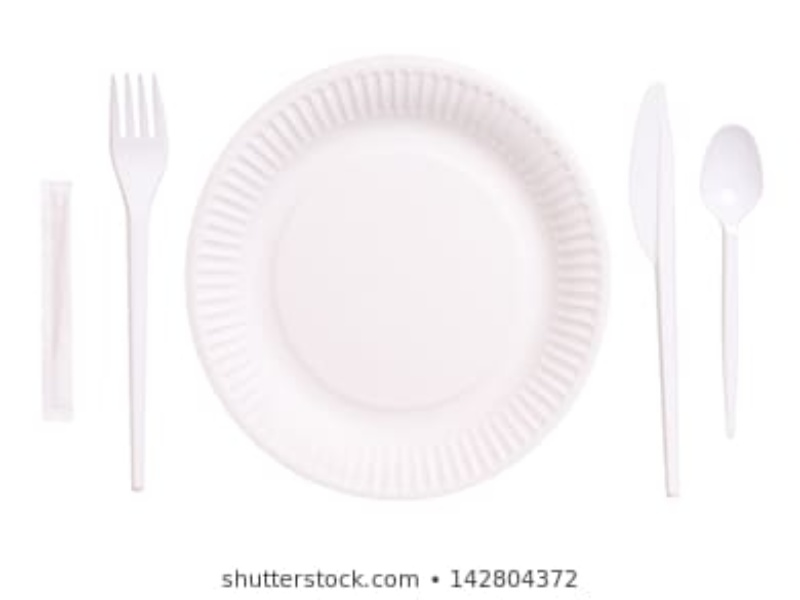plastic-plate: (181, 53, 608, 509)
plastic-silverware: (105, 68, 171, 492), (632, 81, 688, 500), (699, 123, 762, 439)
